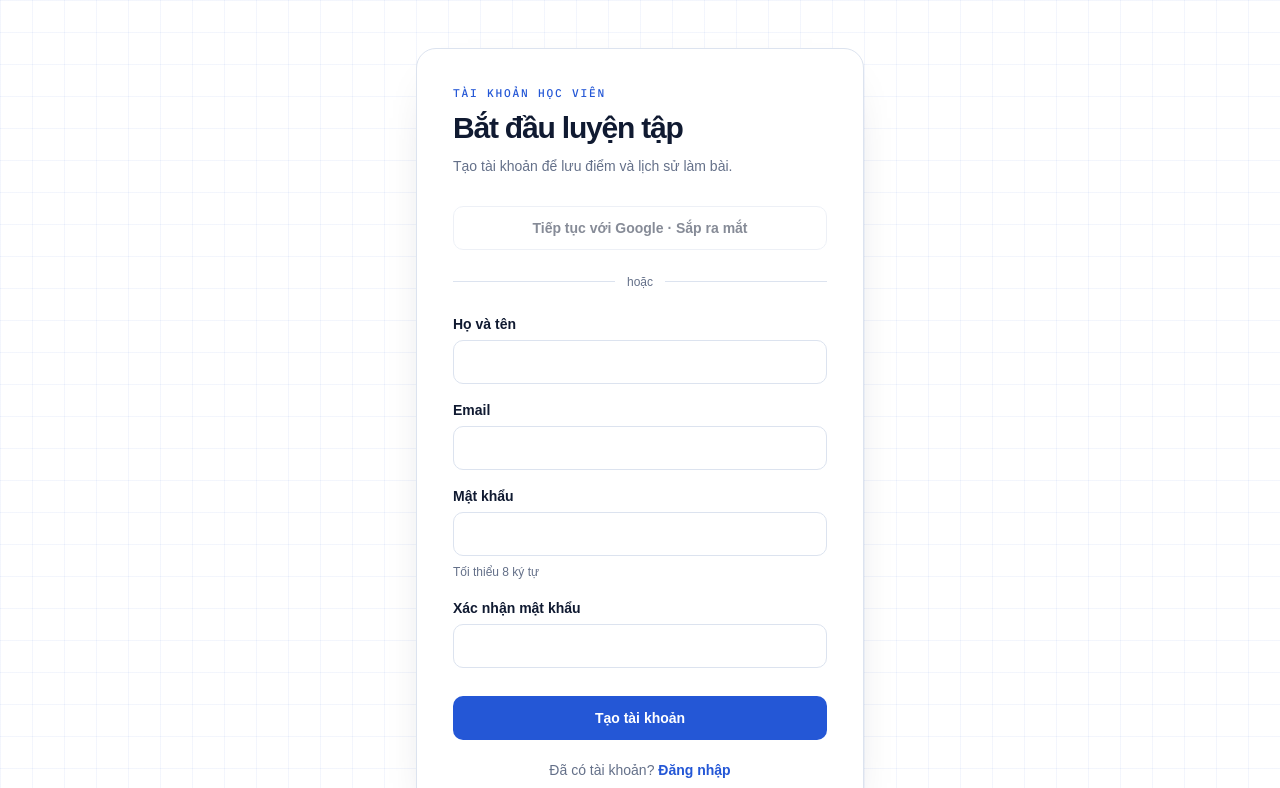
Test: AuthForm › không gọi API khi xác nhận mật khẩu không khớp
Step 1. Type "Nguyễn An" into the field labelled "Họ và tên" → x=640, y=362, box x1=453 y1=340 x2=827 y2=384
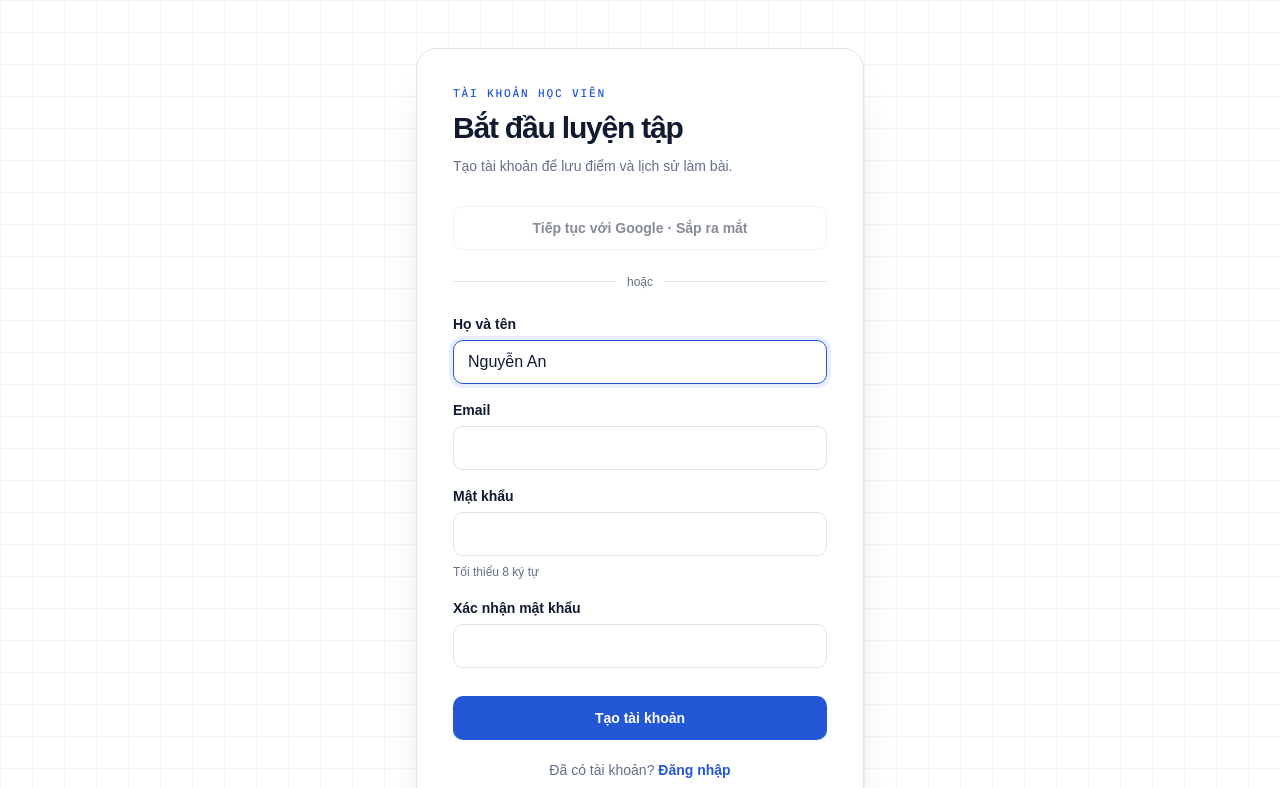
Step 2. Type "an@example.com" into the field labelled "Email" → x=640, y=448, box x1=453 y1=426 x2=827 y2=470
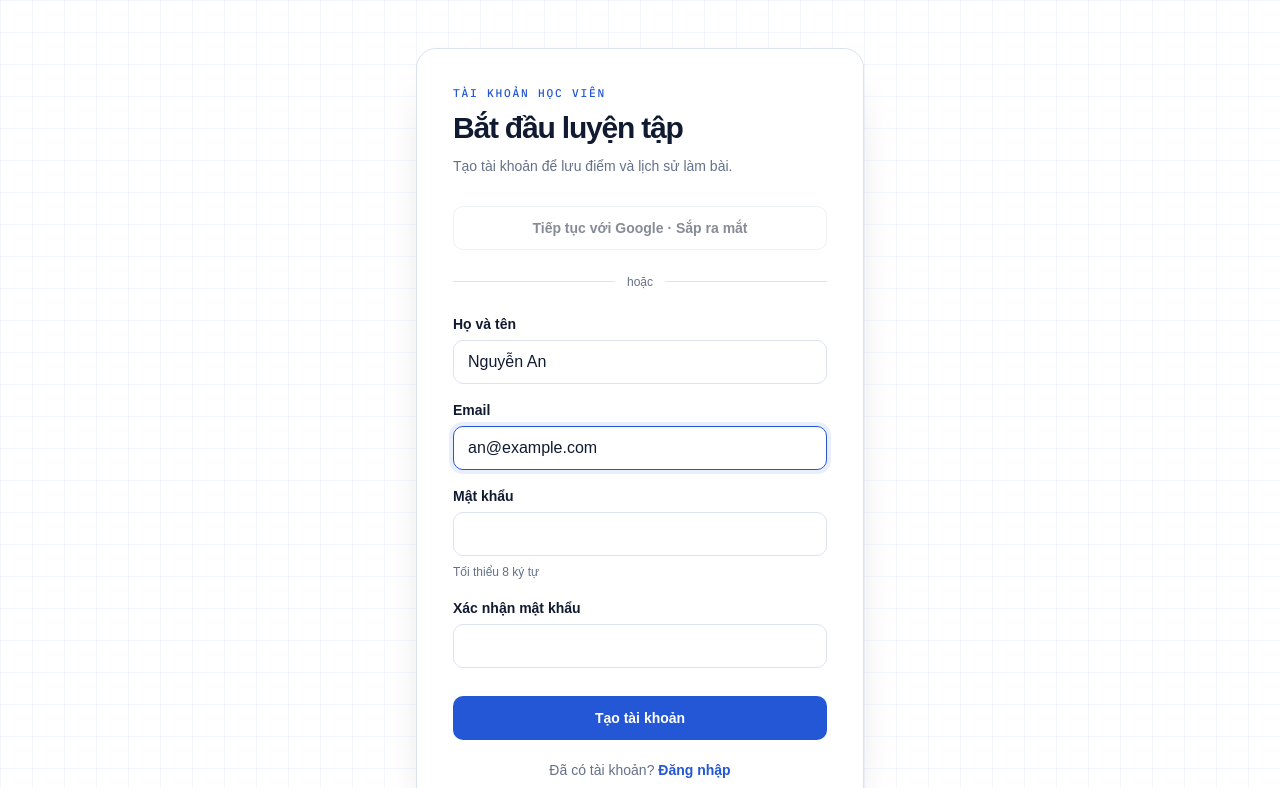
Step 3. Type "matkhau1" into the password field labelled "Mật khẩu" → x=640, y=534, box x1=453 y1=512 x2=827 y2=556
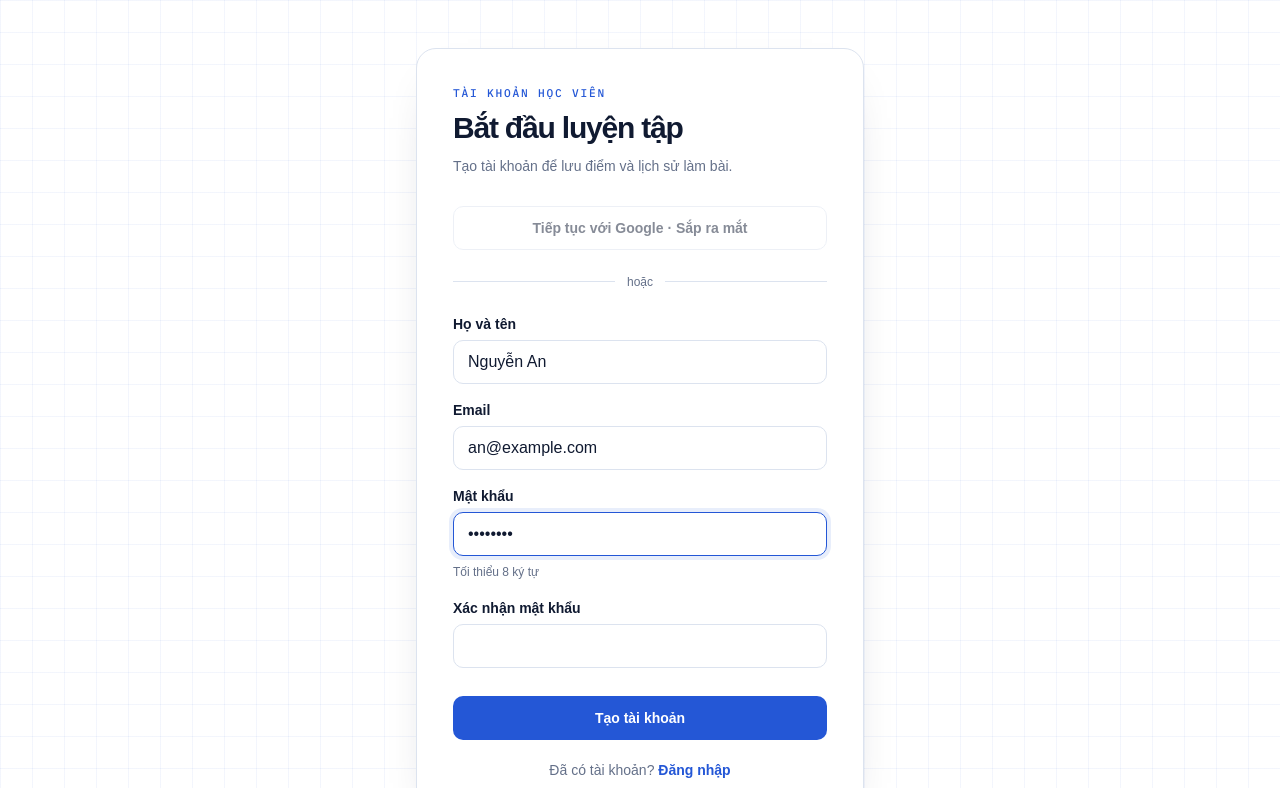
Step 4. Type "matkhau2" into the password field labelled "Xác nhận mật khẩu" → x=640, y=646, box x1=453 y1=624 x2=827 y2=668
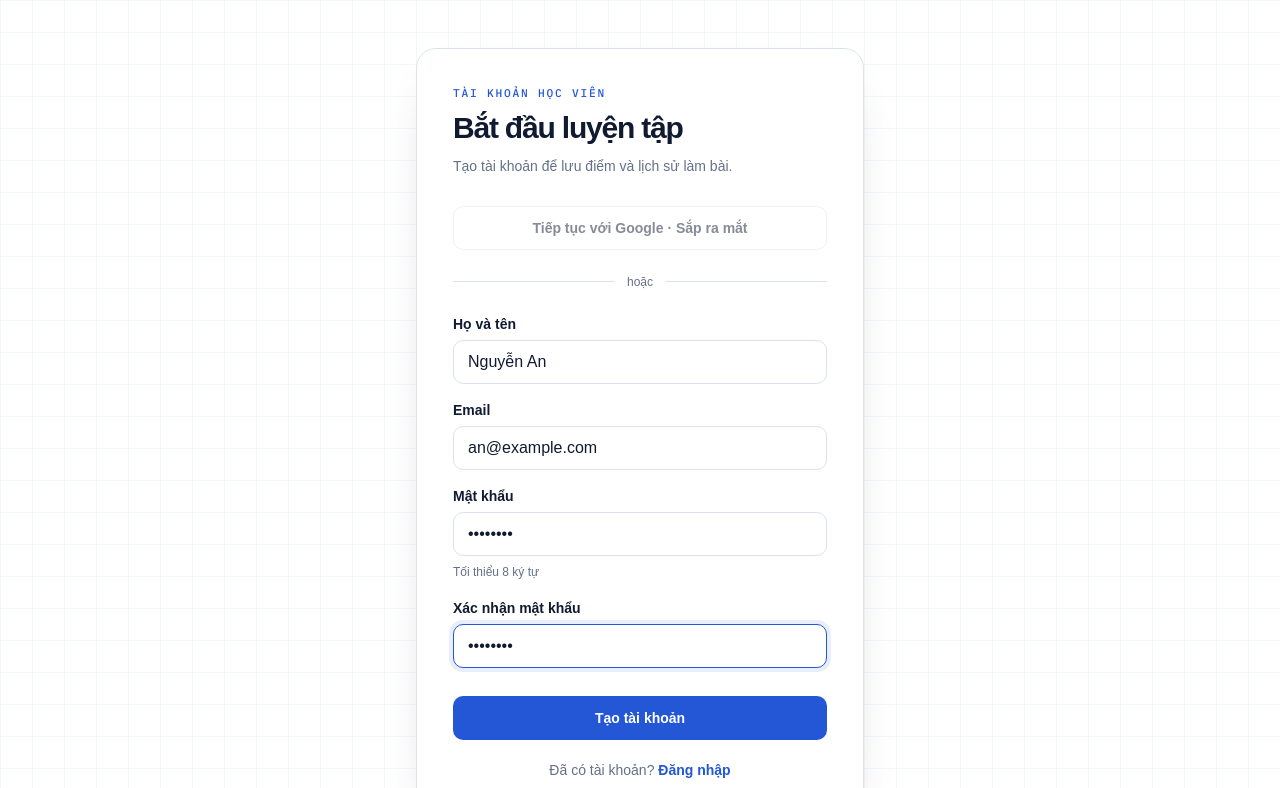
Step 5. Click the button "Tạo tài khoản" → x=640, y=718, box x1=453 y1=696 x2=827 y2=740
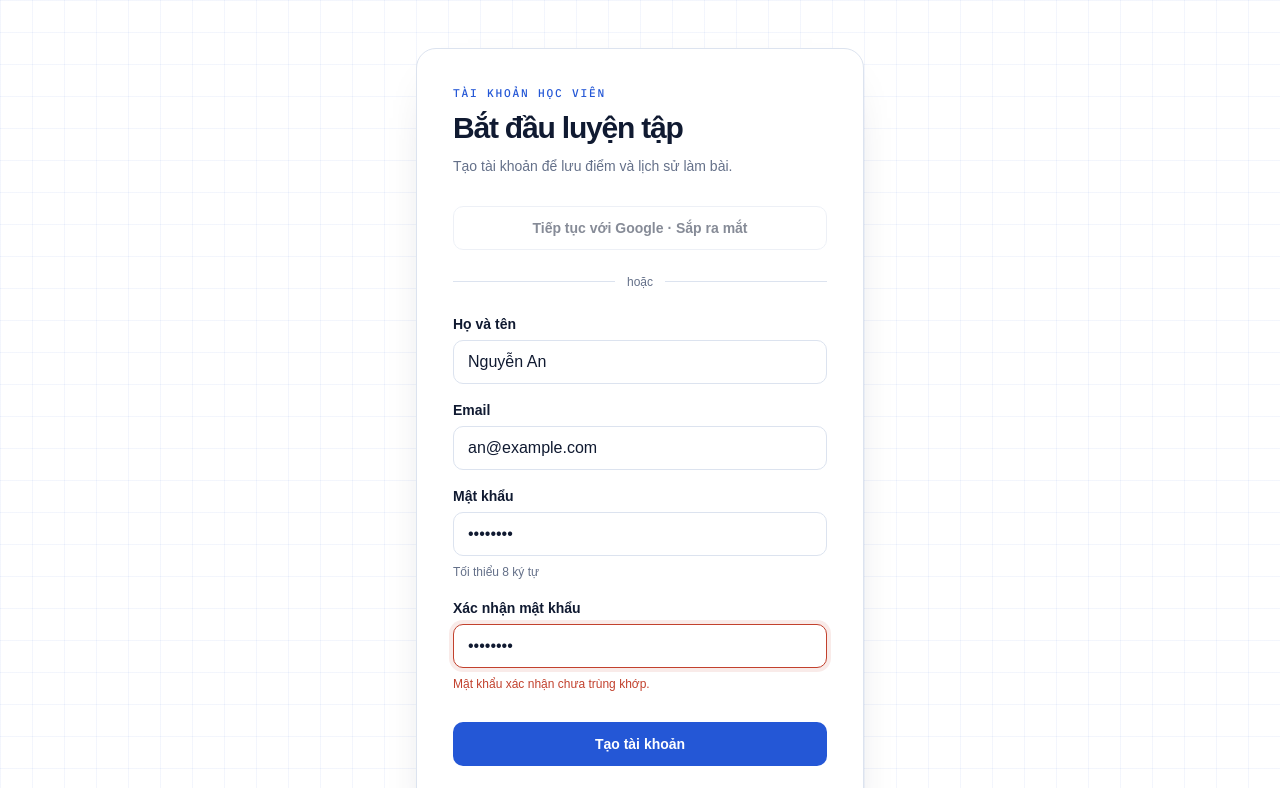
Expected: the text "Mật khẩu xác nhận chưa trùng khớp." is shown, x1=453 y1=677 x2=650 y2=691
